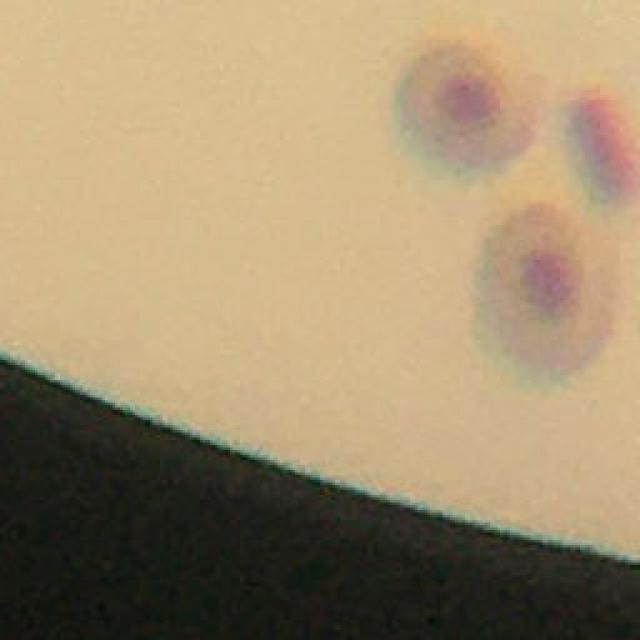RBC: (466, 199, 624, 394), (385, 42, 540, 178)
WBC: (560, 88, 640, 213)
